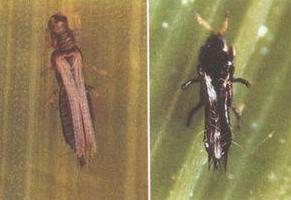Phlaeothripidae: (180, 8, 256, 174)
